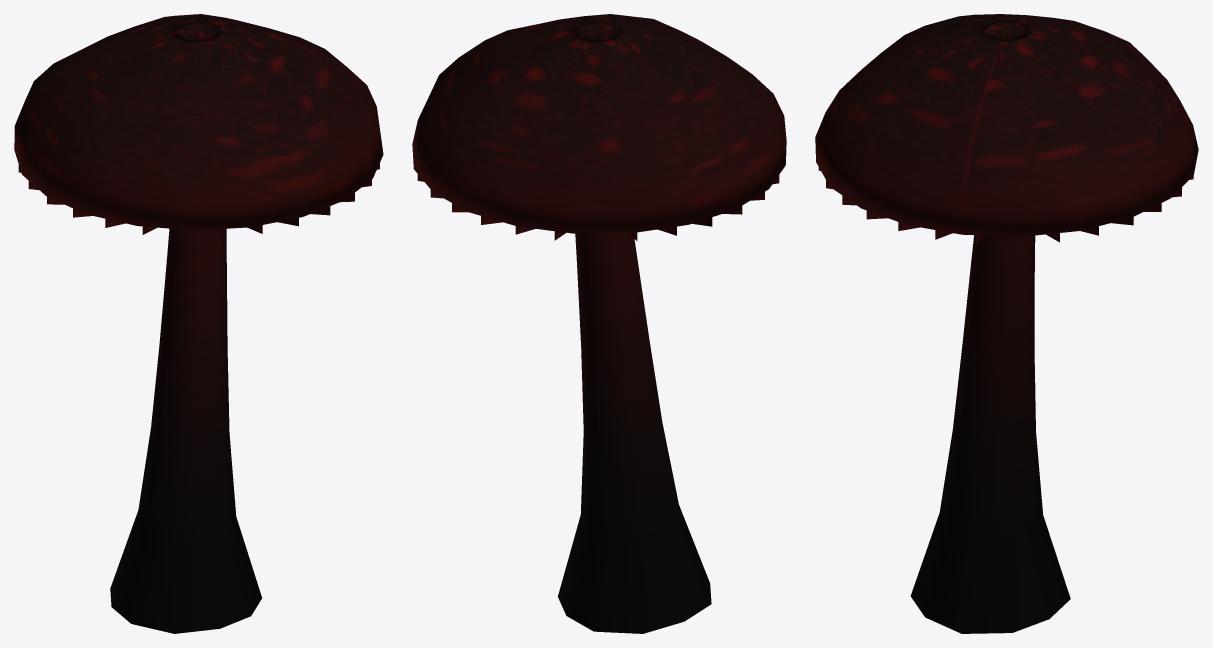
File: plant_forest_mushroom_giant_a.glb
3 views of the same model, side by side, from view 1: azimuth 30°, elevation 25°; view 2: azimuth 150°, elevation 25°; view 3: azimuth 270°, elevation 25° (orthographic). The views are drawn at different scales.
Visible parts, largest first — view 1: plant_forest_mushroom_giant_a; view 2: plant_forest_mushroom_giant_a; view 3: plant_forest_mushroom_giant_a.
Part boxes in pixels (<box>): plant_forest_mushroom_giant_a: <box>14,14,383,633</box>; plant_forest_mushroom_giant_a: <box>412,14,786,633</box>; plant_forest_mushroom_giant_a: <box>815,14,1198,633</box>.
Size of the model in its own units: 0.8285 by 1.4 by 0.8302.
1 material, 1 textured.
